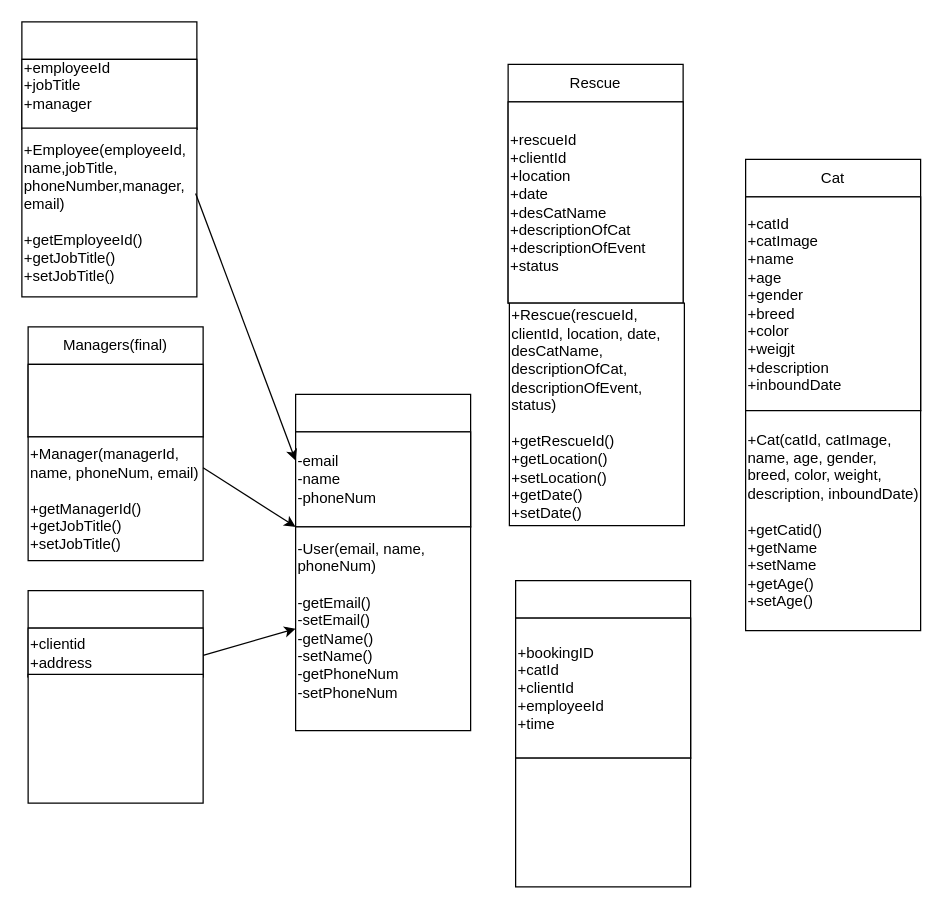
This 943x909 diagram has some shape labels left out. Each missing label, with the box of its shape:
+Booking(bookingId, time) +getBookingId() +getTIme() +setTIme(): (514, 757, 691, 887)
+client(clientId, email, name. phoneNum, address ) +getconsumerid(): (27, 673, 203, 803)
+managerid: (27, 363, 203, 437)
Bookings: (514, 579, 691, 758)
Clients(final): (27, 589, 203, 677)
Employees(final): (21, 21, 197, 129)
User(absract): (294, 393, 471, 527)
